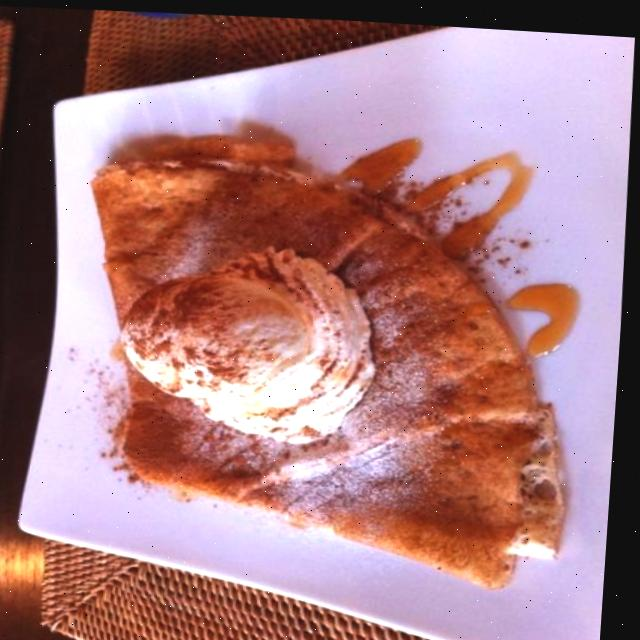蛋糕甜品: (77, 106, 589, 567)
